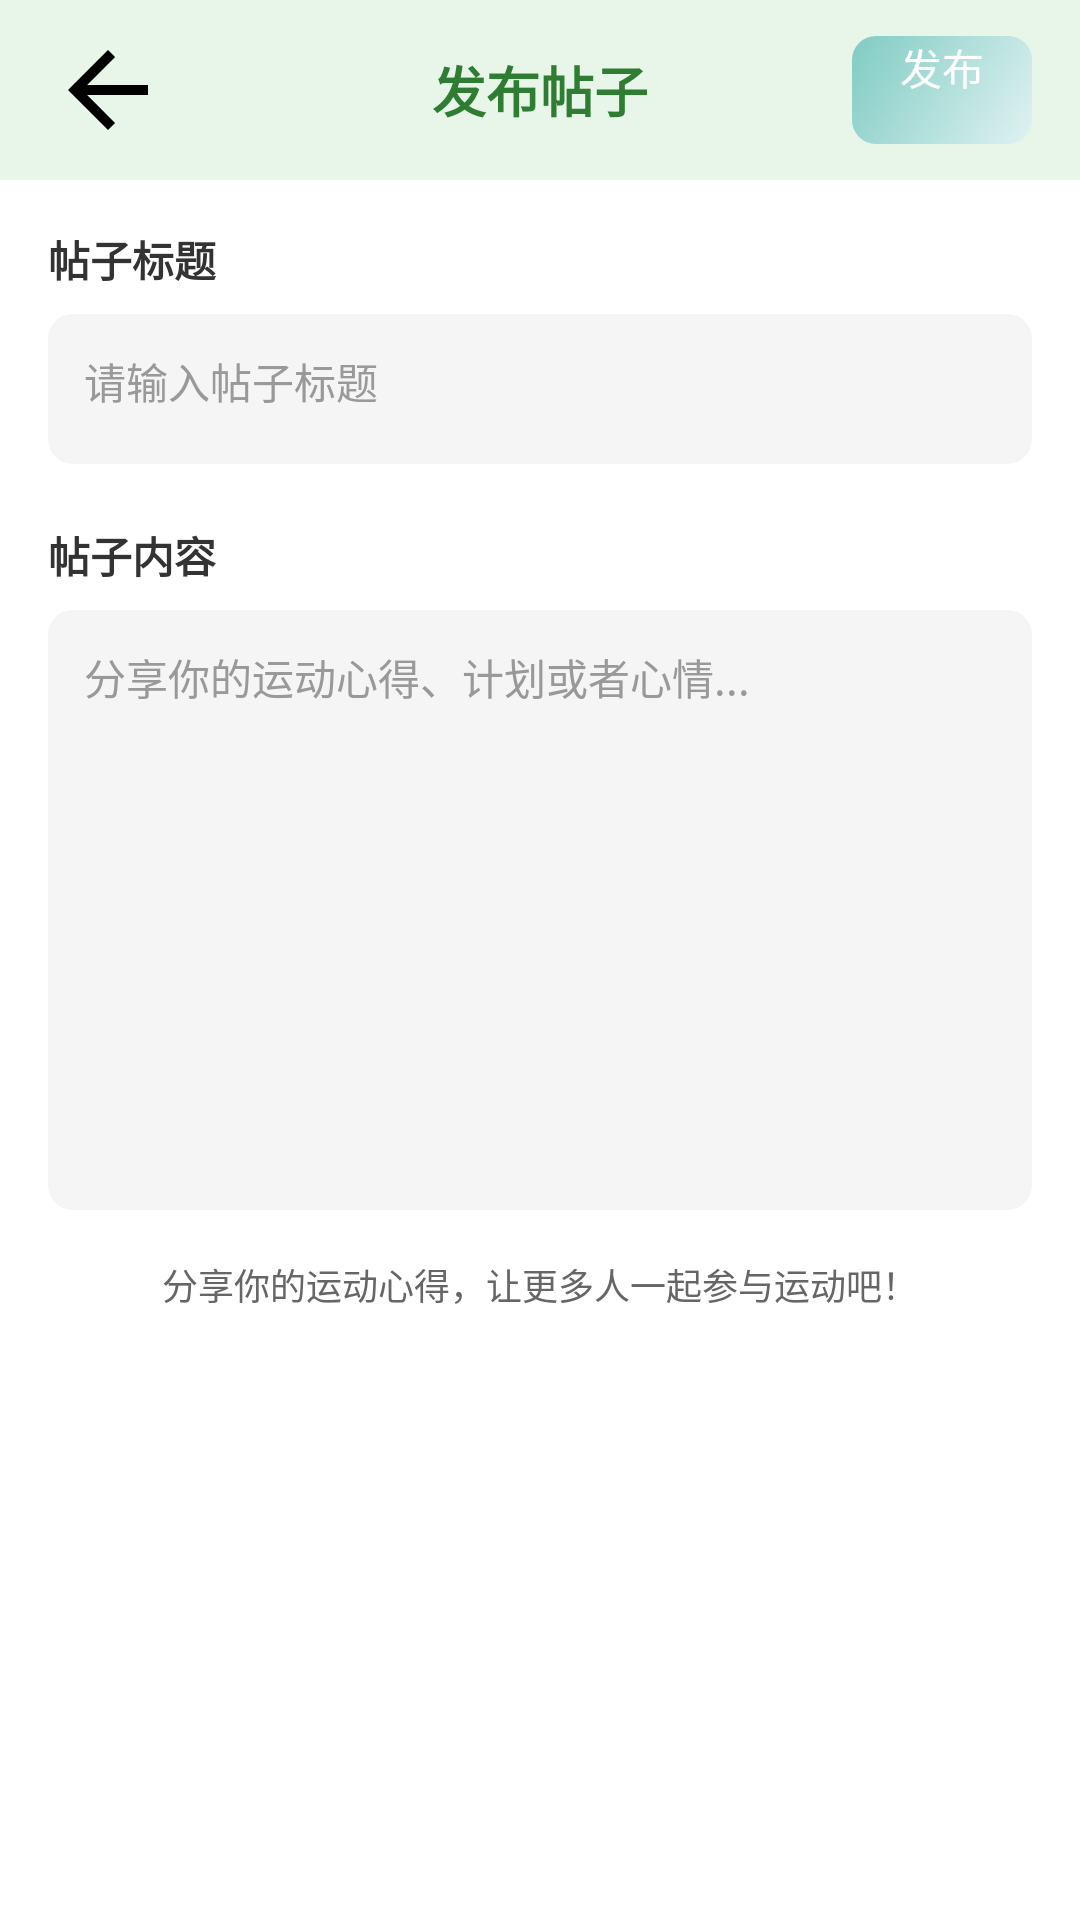

Screen size 1080px x 1920px. Icon name, then its center in pixels as (x,y):
arrow back: (108,90)
